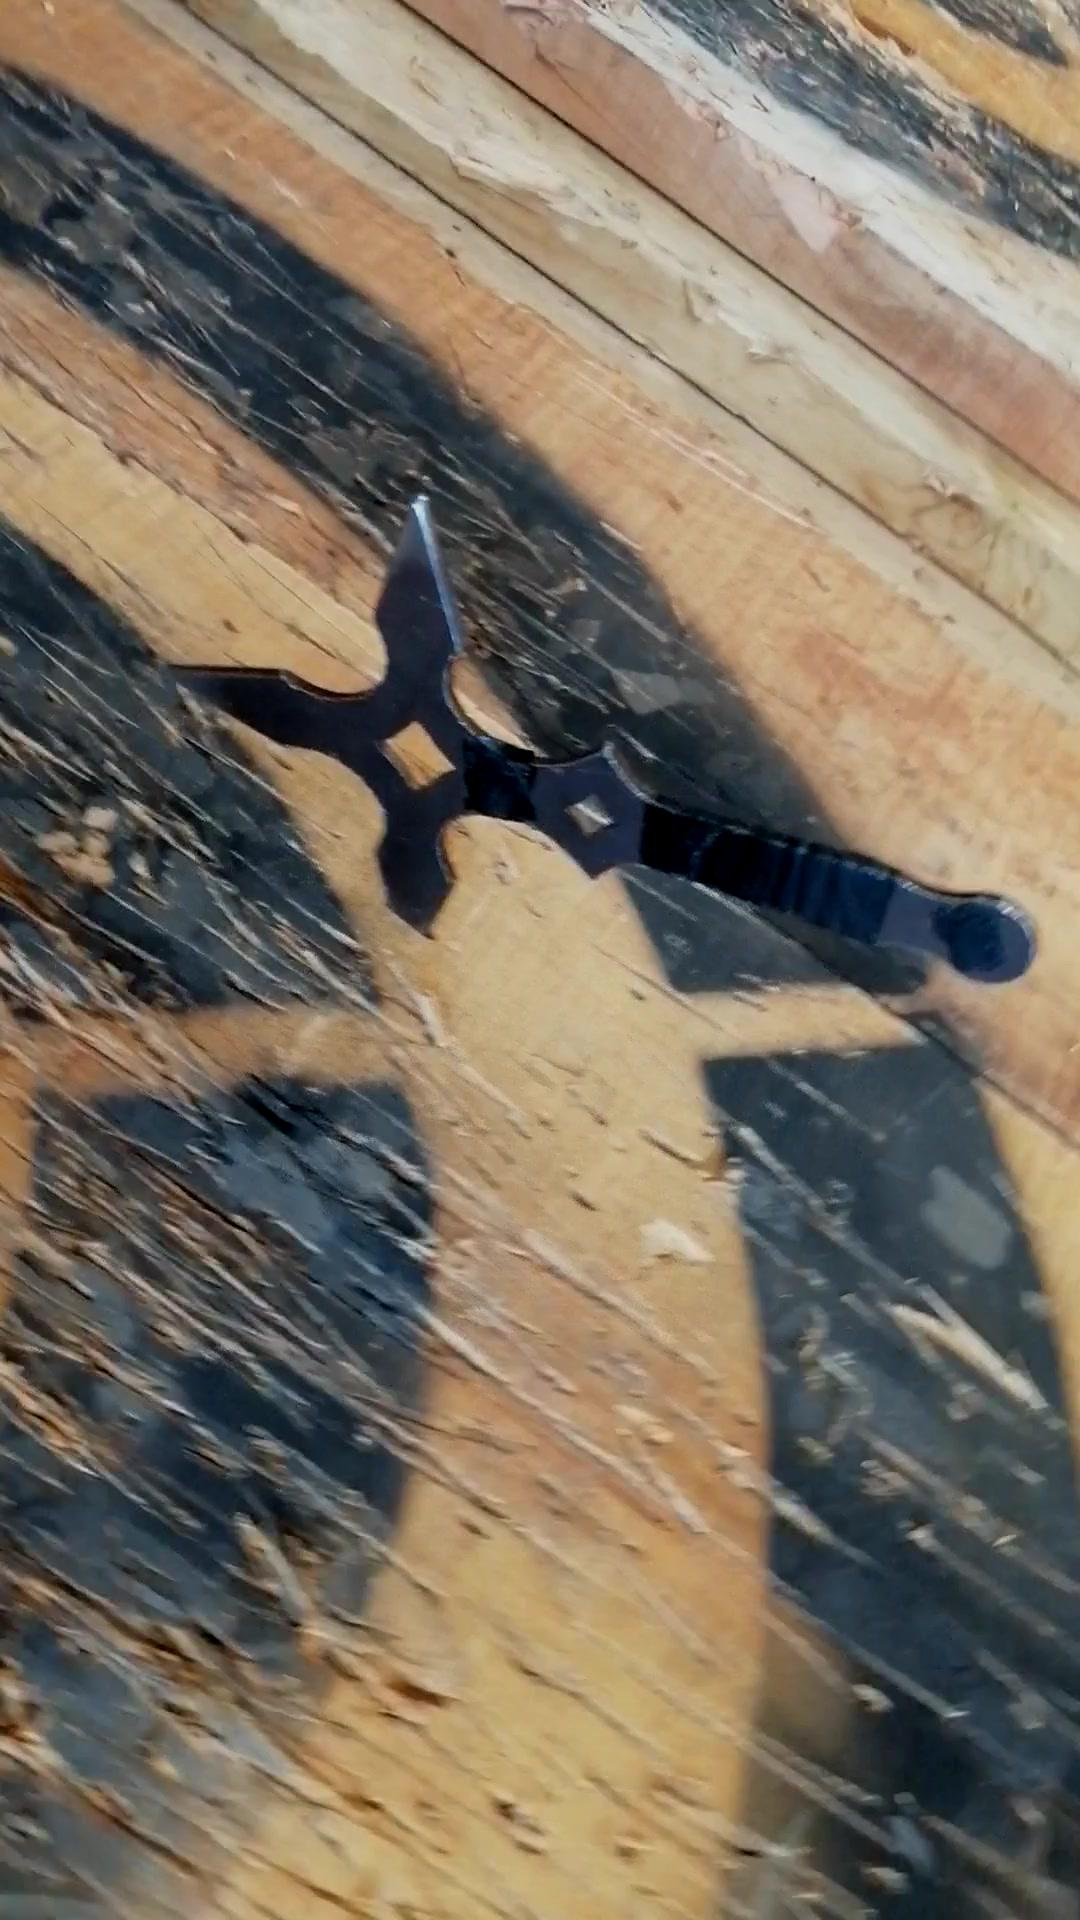Hand Axe: (160, 488, 1046, 988)
